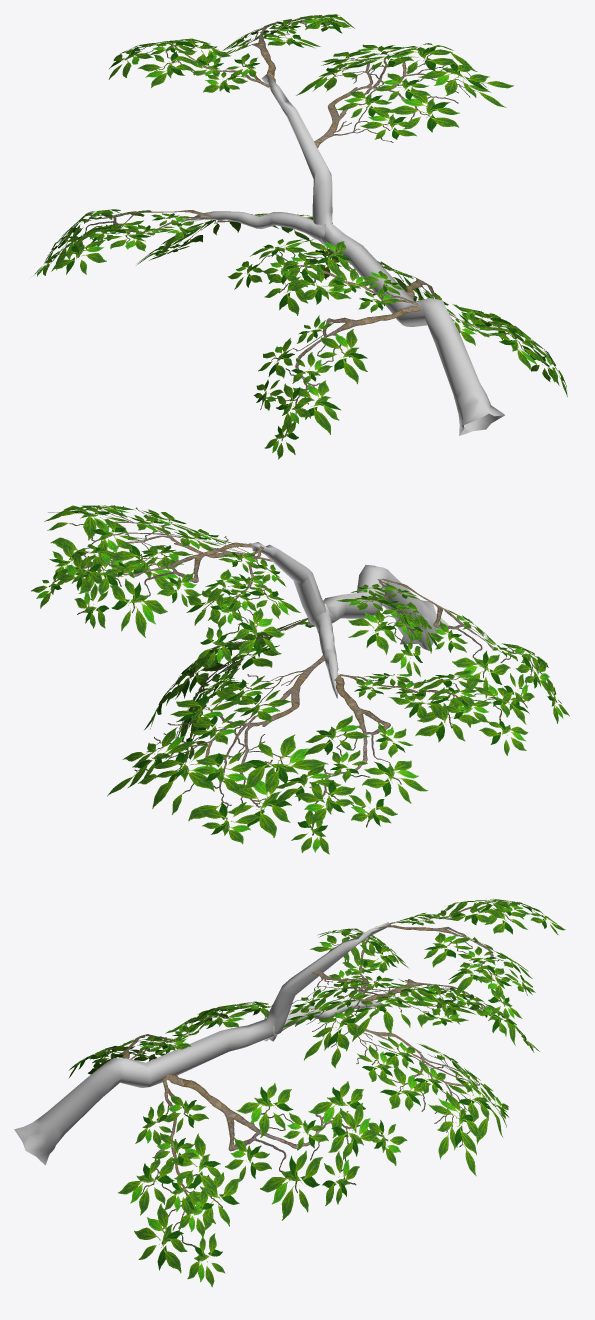
Rendered from Branch_1.FBX.
3 renders of one model, top to bottom at view 1: azimuth 30°, elevation 25°; view 2: azimuth 150°, elevation 25°; view 3: azimuth 270°, elevation 25°, orthographic. The views are drawn at different scales.
Parts seen in each view (by area): view 1: Object006; view 2: Object006; view 3: Object006.
Part boxes in pixels (left/top/right/bottom): Object006: left=33, top=14, right=567, bottom=459; Object006: left=31, top=505, right=569, bottom=854; Object006: left=14, top=898, right=565, bottom=1287.
Size of the model in its own units: 276 by 164 by 286.
